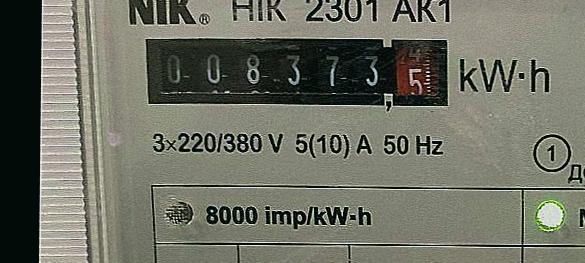0: (165, 51, 185, 88), (205, 51, 224, 87)
3: (362, 53, 384, 90), (284, 52, 305, 89)
4: (407, 45, 426, 65)
5: (408, 66, 427, 96)
7: (324, 51, 342, 90)
8: (244, 51, 265, 88)
screen: (141, 30, 459, 121)
